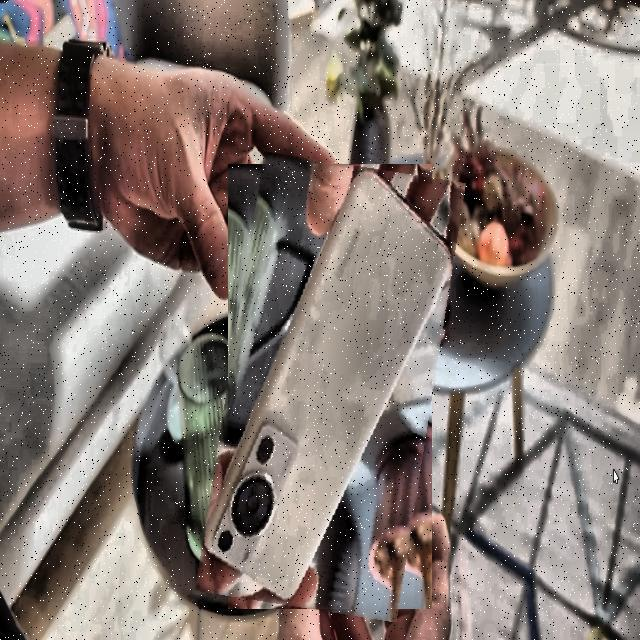Phone: (212, 158, 449, 616)
